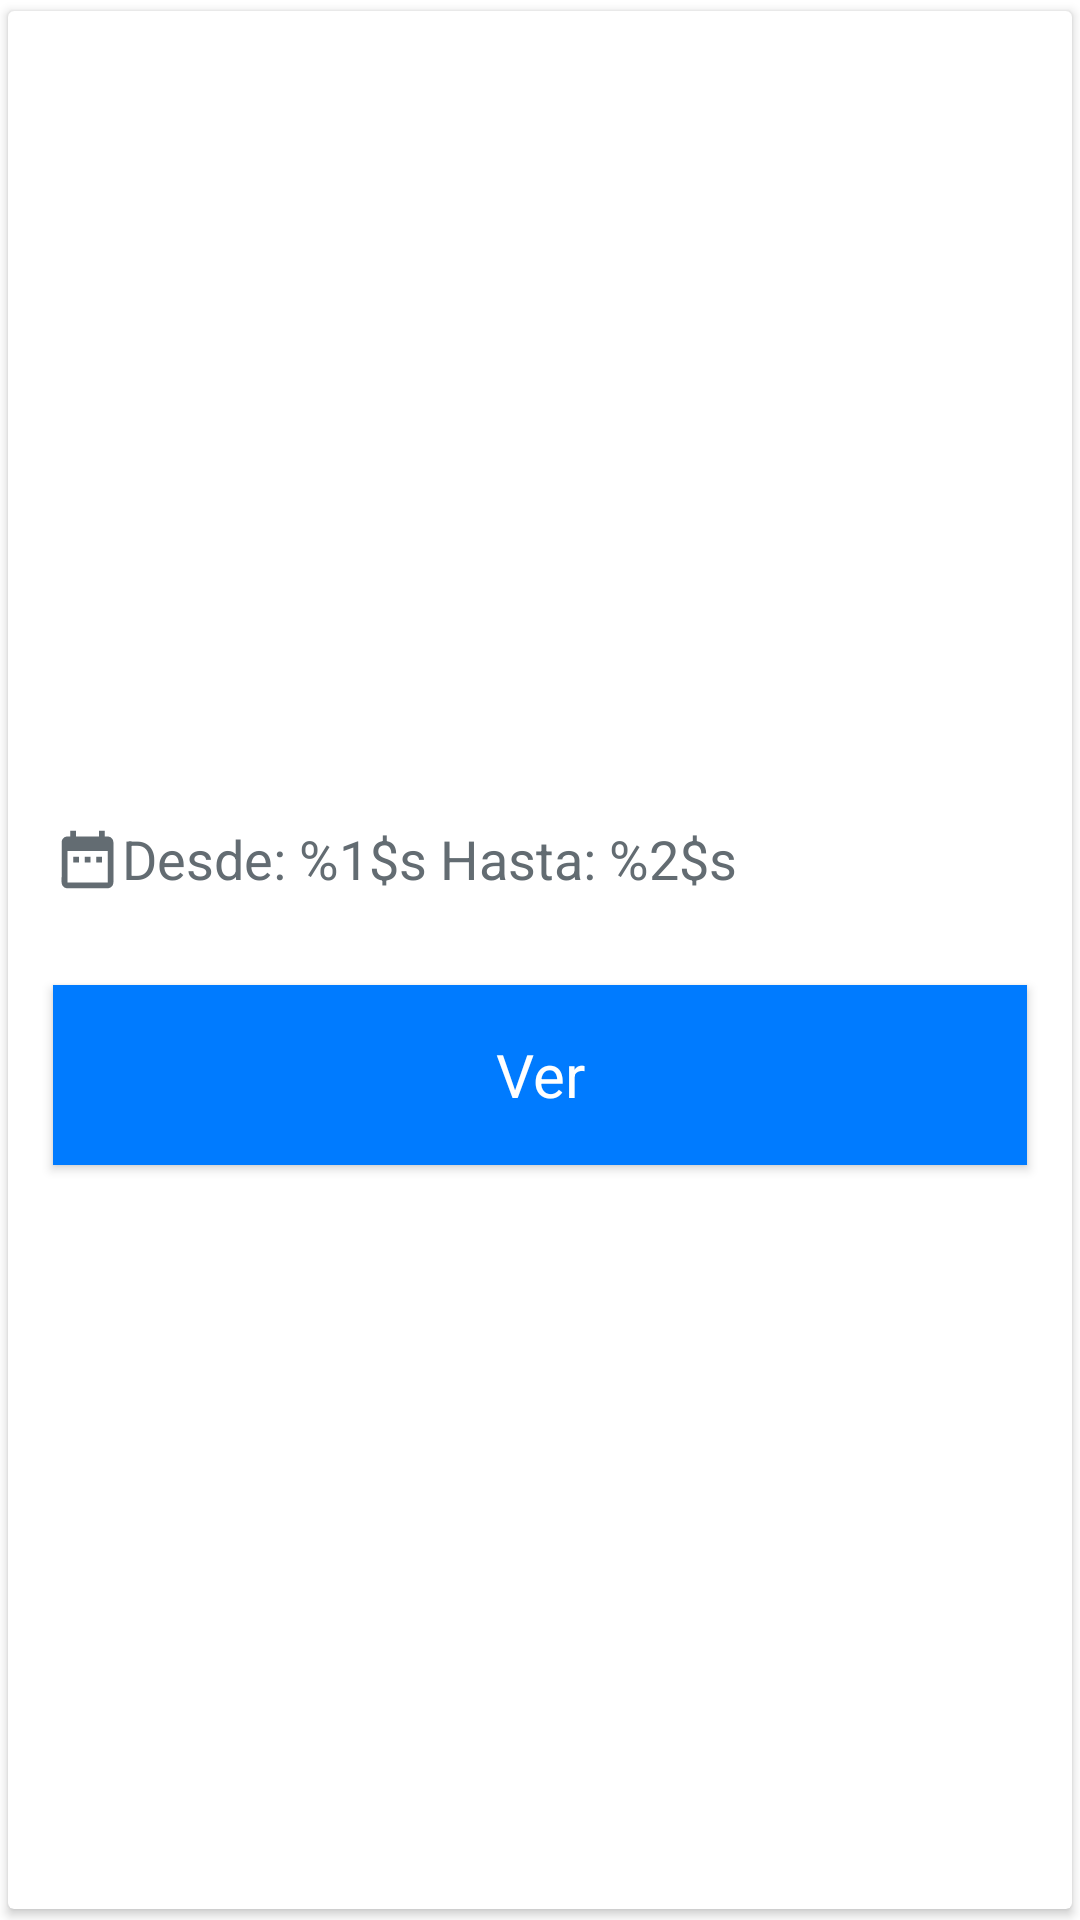

Icon bounding boxes for this 1080 x 1920 phone screenshot, format (x1, y1, x2, y2):
date range: (61, 830, 114, 889)
